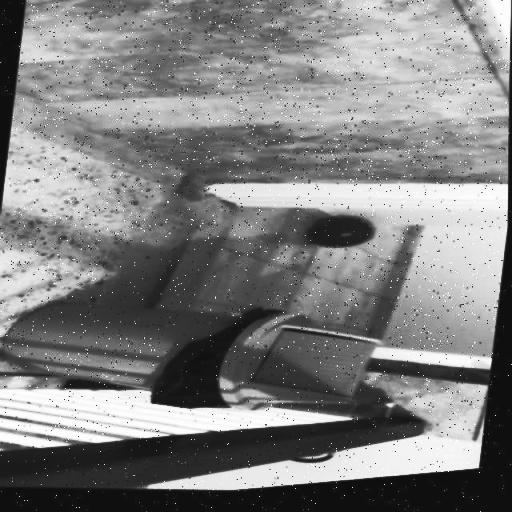balloon: (308, 218, 378, 260)
